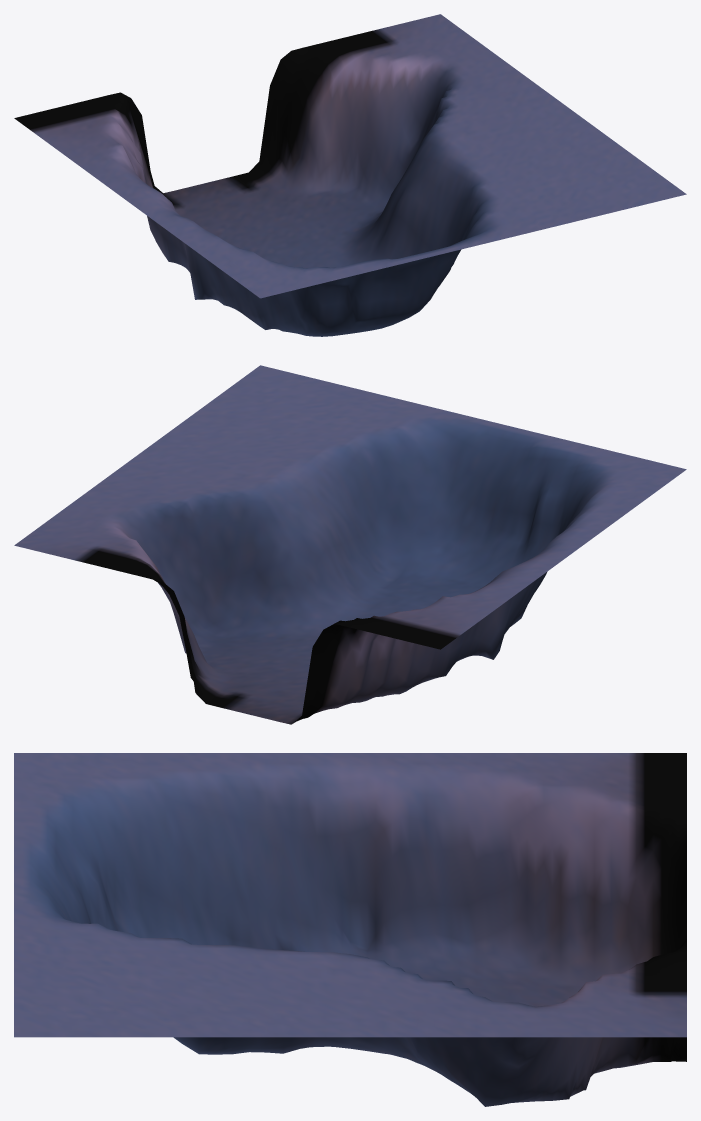
File: valley_1.obj
3 views of the same model, one above another, from view 1: azimuth 30°, elevation 25°; view 2: azimuth 150°, elevation 25°; view 3: azimuth 270°, elevation 25° (orthographic). The views are drawn at different scales.
Visible parts, largest first — view 1: Plane; view 2: Plane; view 3: Plane.
Boxes of the visible parts, x1,y1,x2,y2 form: Plane: (14, 14, 686, 336); Plane: (14, 365, 686, 724); Plane: (14, 753, 686, 1106).
Bounding box in the file's own units: 40 × 10 × 40.
